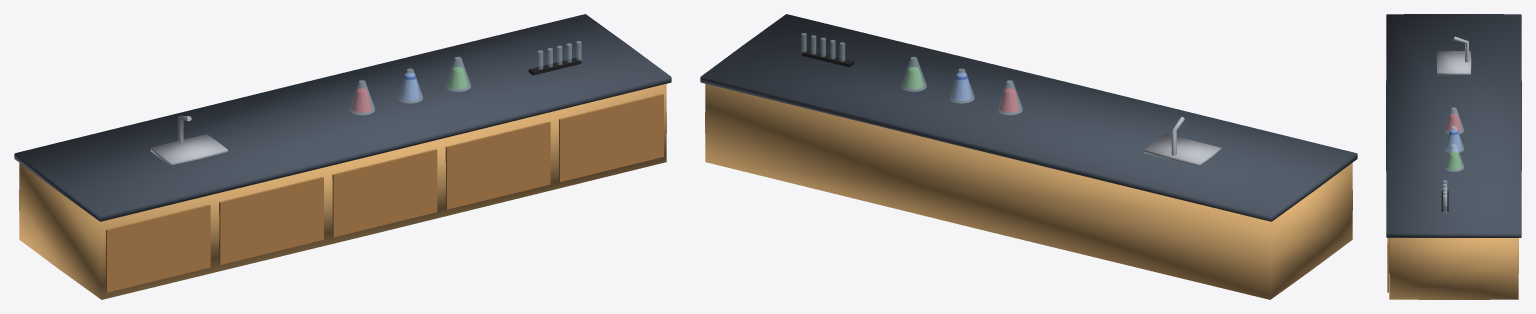
The model's file is lab_bench.glb.
The picture shows the model from 3 angles, left to right: view 1: azimuth 30°, elevation 25°; view 2: azimuth 150°, elevation 25°; view 3: azimuth 270°, elevation 25°; orthographic projection. The views are drawn at different scales.
Visible parts, largest first — view 1: root; view 2: root; view 3: root.
Part boxes in pixels (x1,y1,x2,y2): root: [14, 14, 671, 299]; root: [700, 14, 1357, 299]; root: [1386, 14, 1521, 299].
Bounding box in the file's own units: 5.96 × 1.22 × 1.56.
